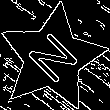N_SE: (20, 26, 84, 90)
